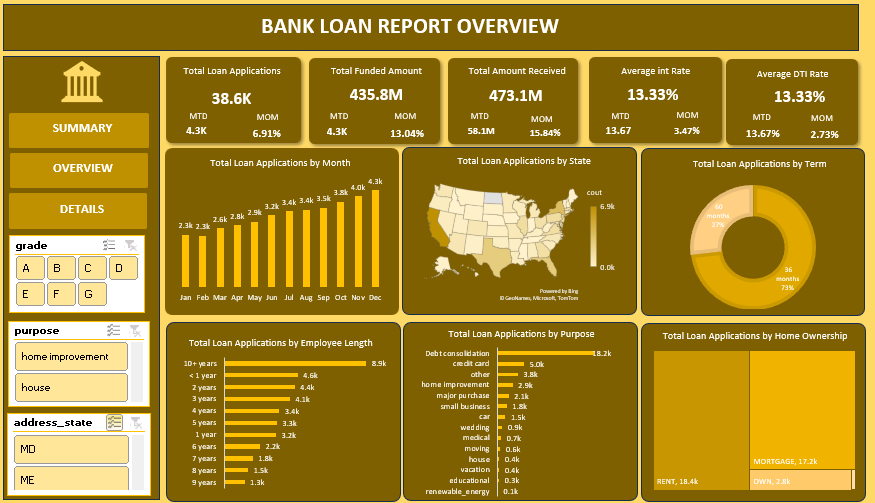

What the dashboard file says about the page in this screenshot:
{"tool":"powerbi","page":{"name":"Overview","canvas":[1280,720],"ordinal":1},"visuals":[{"type":"cardVisual","fields":{"Data":["public bank_loan_data.Total Loan Applications","public bank_loan_data.Total Funded Amount","public bank_loan_data.Total amount received","public bank_loan_data.Avg intrest rate","public bank_loan_data.Avg DTI"]},"box":[240.1,84.5,1026.7,142.4],"z":0},{"type":"textbox","box":[11.2,10,1255,61.2],"z":1000},{"type":"slicer","title":"State","fields":{"Values":["public bank_loan_data.address_state"]},"box":[9.7,561,220.8,63.9],"z":2000},{"type":"slicer","title":"New Measure","fields":{"Values":["New Measure.New Measure"]},"box":[9.7,384.9,220.8,68.8],"z":3000},{"type":"columnChart","fields":{"Y":["public bank_loan_data.Total Loan Applications"],"Category":["Calender table.Month Name"]},"box":[239.7,234.8,388.9,231.1],"z":4000},{"type":"map","fields":{"Y":["public bank_loan_data.Total Loan Applications"],"Category":["public bank_loan_data.address_state"]},"box":[638.3,234.8,347.3,231.1],"z":5000},{"type":"donutChart","fields":{"Y":["public bank_loan_data.Total Loan Applications"],"Category":["public bank_loan_data.term"]},"box":[995.4,234.8,270.2,231.1],"z":6000},{"type":"pageNavigator","title":"Menu","box":[9.7,155.6,222,216],"z":7000},{"type":"slicer","title":"Grade","fields":{"Values":["public bank_loan_data.grade"]},"box":[8.4,476.5,219.6,63.9],"z":8000},{"type":"slicer","title":"Good Vs Bad Loan","fields":{"Values":["public bank_loan_data.Good VS Bad Loan"]},"box":[8.4,643,220.8,63.9],"z":9000},{"type":"clusteredBarChart","fields":{"Y":["public bank_loan_data.Total Loan Applications"],"Category":["public bank_loan_data.emp_length"]},"box":[240.1,476.5,366.8,230.4],"z":10000},{"type":"clusteredBarChart","fields":{"Y":["public bank_loan_data.Total Loan Applications"],"Category":["public bank_loan_data.purpose"]},"box":[618.9,476.5,366.8,230.4],"z":11000},{"type":"treemap","fields":{"Values":["public bank_loan_data.Total Loan Applications"],"Group":["public bank_loan_data.home_ownership"]},"box":[995.3,474.1,270.2,230.4],"z":12000},{"type":"image","box":[57.5,82.5,128.8,73.8],"z":12001}]}

Visuals, with their boxes in screenshot pixels (x1, y1, x2, y2), scaled from the page's 1280x720 canvas onto the 875x503 screenshot:
cardVisual - public bank_loan_data.Total Loan Applications x public bank_loan_data.Total Funded Amount: detection(164, 59, 866, 159)
textbox: detection(8, 7, 866, 50)
"State" slicer: detection(7, 392, 158, 437)
"New Measure" slicer: detection(7, 269, 158, 317)
columnChart - public bank_loan_data.Total Loan Applications x Calender table.Month Name: detection(164, 164, 430, 325)
map - public bank_loan_data.Total Loan Applications x public bank_loan_data.address_state: detection(436, 164, 674, 325)
donutChart - public bank_loan_data.Total Loan Applications x public bank_loan_data.term: detection(680, 164, 865, 325)
"Menu" pageNavigator: detection(7, 109, 158, 260)
"Grade" slicer: detection(6, 333, 156, 378)
"Good Vs Bad Loan" slicer: detection(6, 449, 157, 494)
clusteredBarChart - public bank_loan_data.Total Loan Applications x public bank_loan_data.emp_length: detection(164, 333, 415, 494)
clusteredBarChart - public bank_loan_data.Total Loan Applications x public bank_loan_data.purpose: detection(423, 333, 674, 494)
treemap - public bank_loan_data.Total Loan Applications x public bank_loan_data.home_ownership: detection(680, 331, 865, 492)
image: detection(39, 58, 127, 109)
